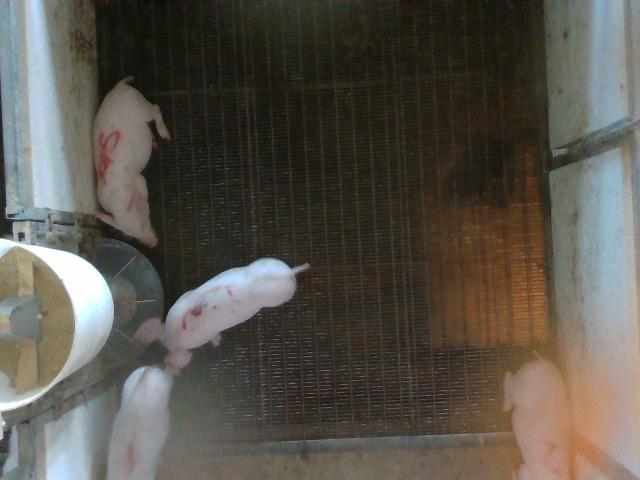pig-1: (108, 366, 172, 478)
pig-2: (504, 355, 569, 479)
pig-3: (134, 259, 310, 374)
pig-5: (94, 76, 171, 247)
